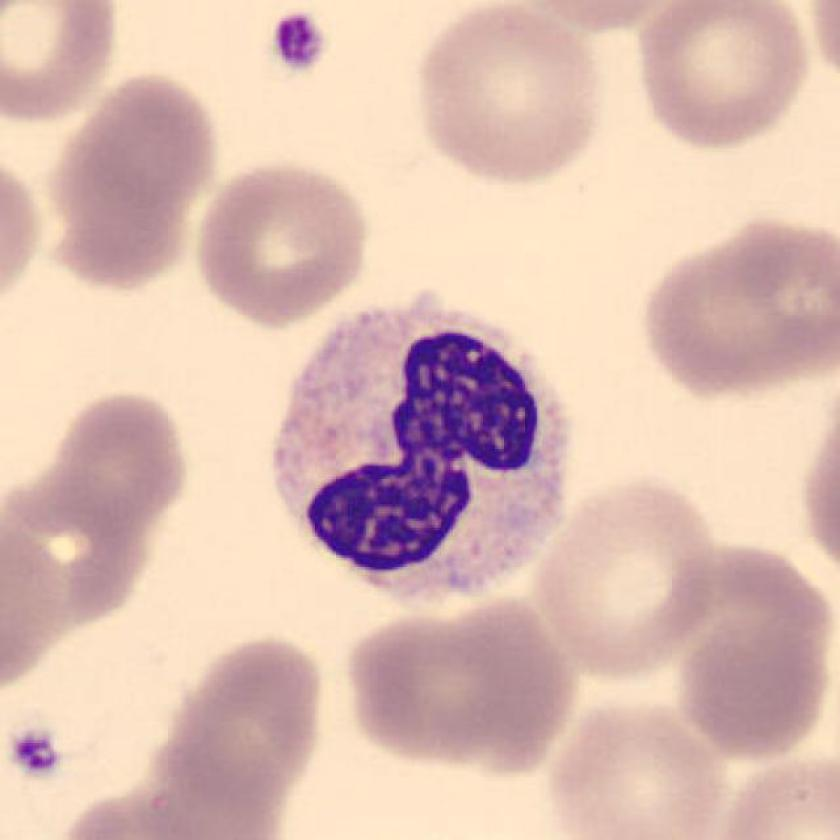neutrophil: (274, 295, 565, 603)
